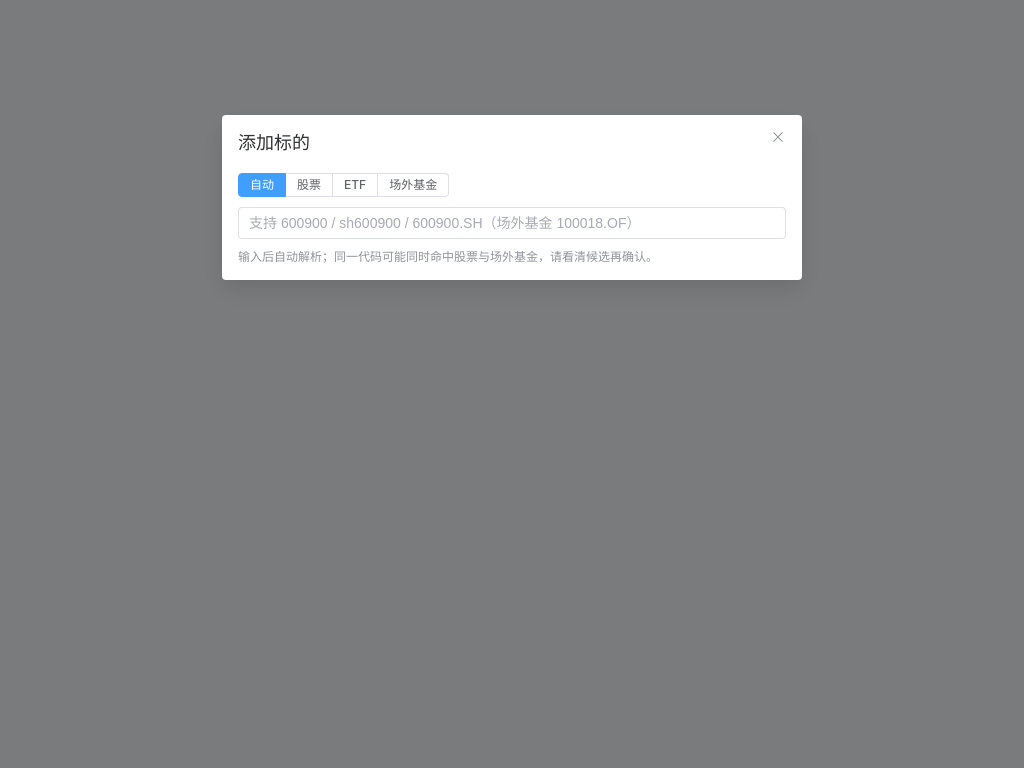
Test: AddAssetDialog 添加 › ⑤ 501 兜底: 展示后端给出的原因(P1 起场外基金已可注册, 此分支仅防旧后端)
The image size is (1024, 768).
Type "000001" into the field with placeholder "支持 600900 / sh600900 / 600900.SH（场外基金 100018.OF）". click: (512, 223)
box: [249,208,775,238]
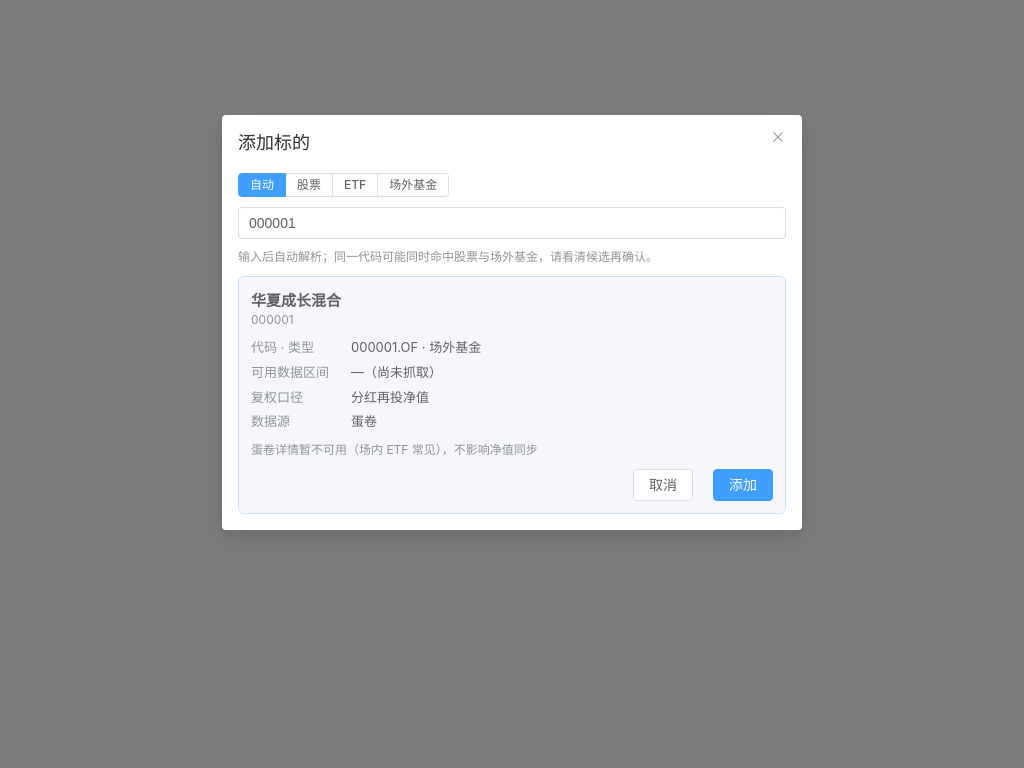
Click the button "添加". click: (743, 485)
box: [713,469,773,501]
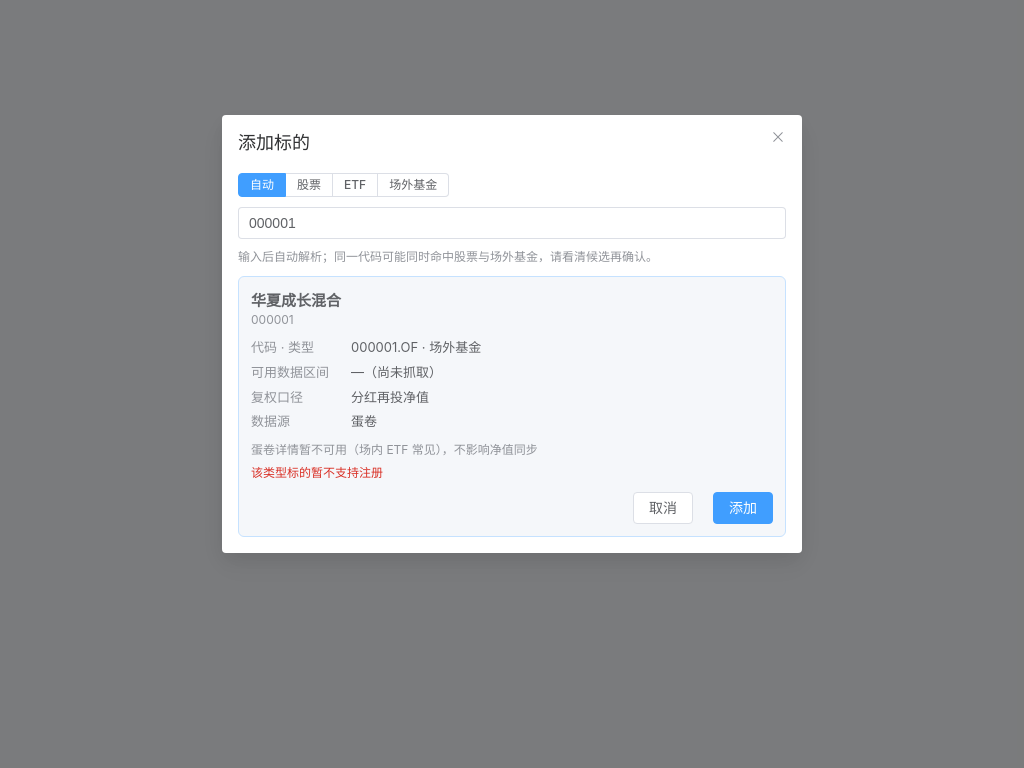
Check: the text "该类型标的暂不支持注册" is shown, box [251,465,383,480]
